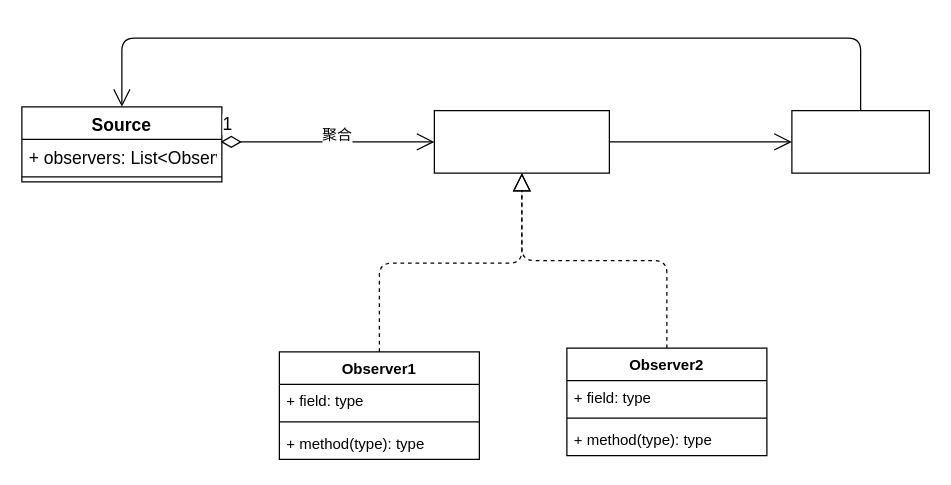
Some shapes in this 951 by 485 pixel diagram are drawn without their labels. The box of each missing label's shape, as (x1, y1, x2, y2) in pixels:
«interface» Event<T>: (791, 109, 929, 173)
«interface» Observer Listener: (433, 109, 609, 173)
